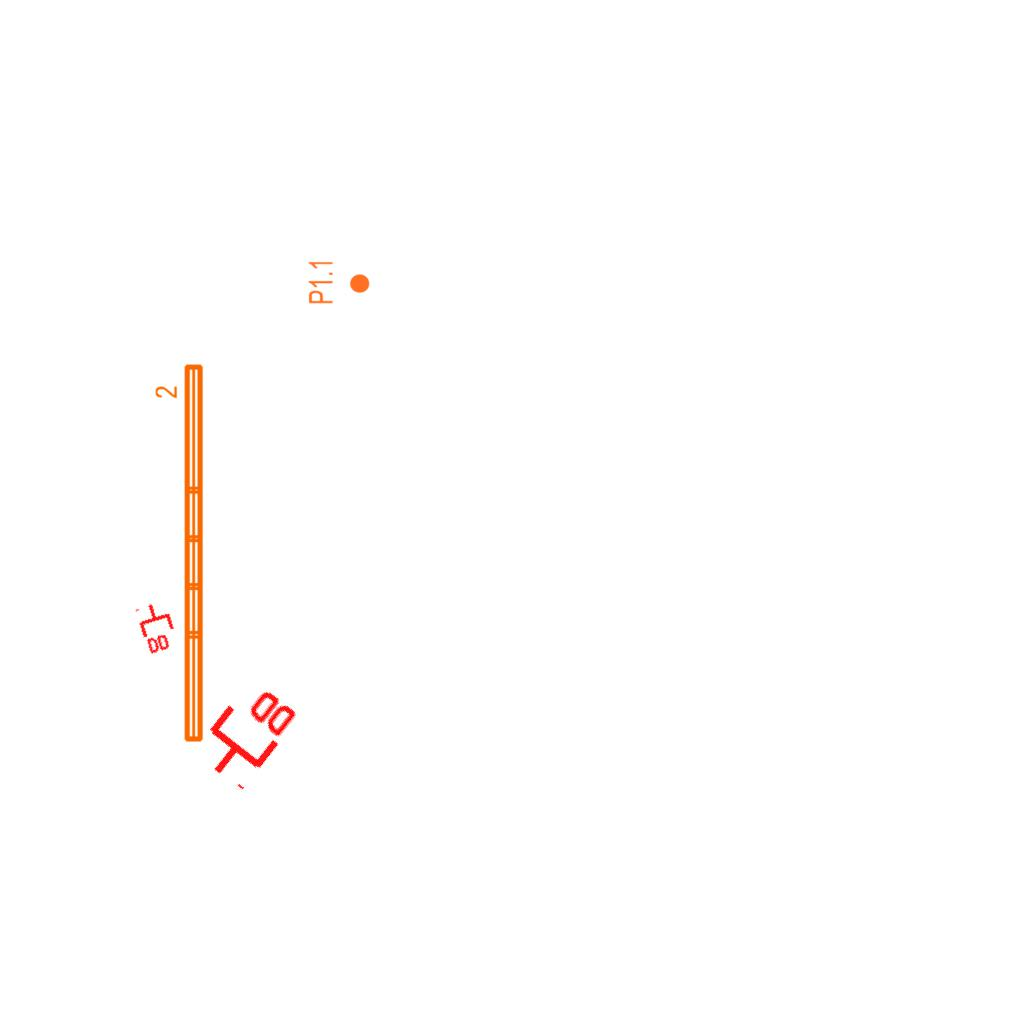Ambulanz_Pendelleuchte_LED: (153, 360, 209, 747)
Datenanschluss_zweifach: (186, 670, 305, 795), (134, 598, 182, 657)
Downlight_LED_Einbauleuchten_Flur: (307, 259, 371, 305)
